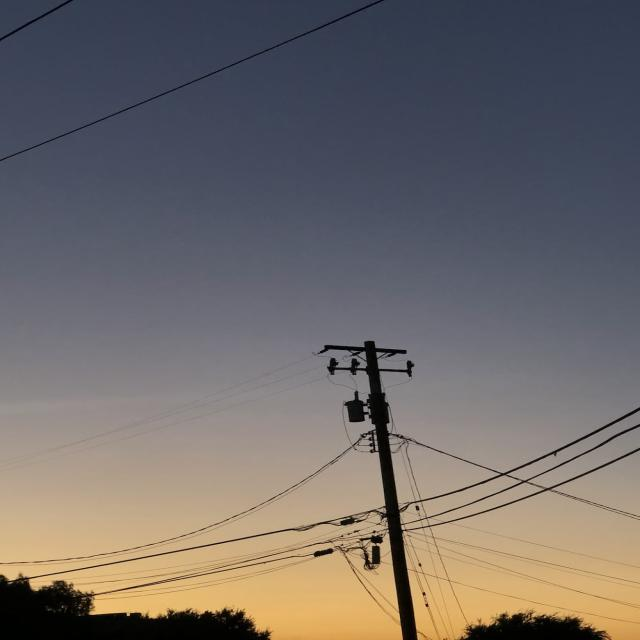transmission tower: (240, 311, 511, 640)
